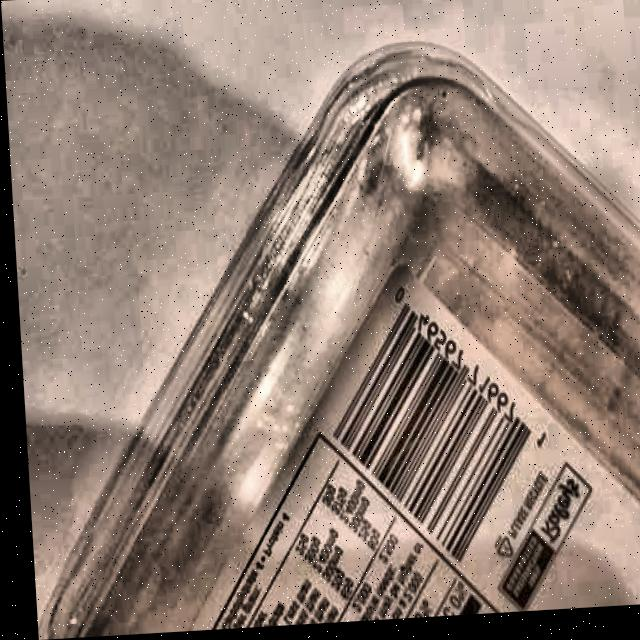plastic: (4, 24, 640, 640)
